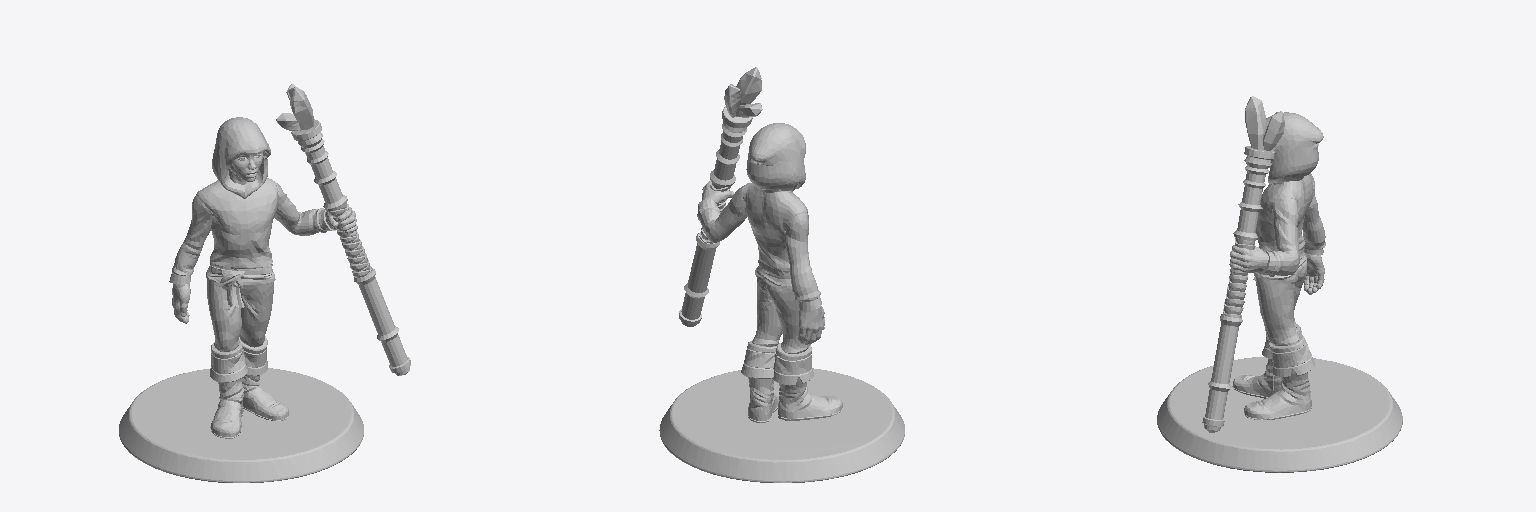
File: Crystal.obj
3 views of the same model, side by side, from view 1: azimuth 30°, elevation 25°; view 2: azimuth 150°, elevation 25°; view 3: azimuth 270°, elevation 25° (orthographic).
Visible parts, largest first — view 1: Crystal; view 2: Crystal; view 3: Crystal.
Boxes of the visible parts, <box> form: Crystal: <box>119,84,410,482</box>; Crystal: <box>659,67,904,482</box>; Crystal: <box>1157,96,1402,472</box>.
Bounding box in the file's own units: 1.07 × 1.45 × 0.9393.